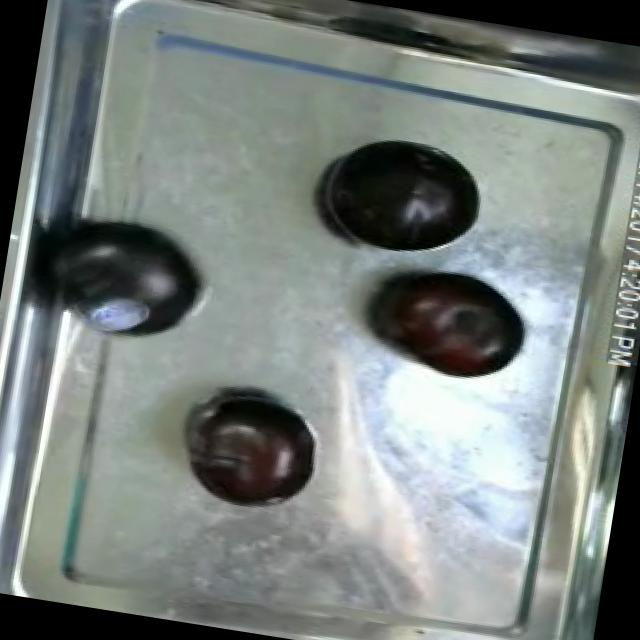Fruit: (29, 196, 217, 359), (312, 125, 495, 274), (356, 252, 540, 392), (168, 380, 327, 521)
